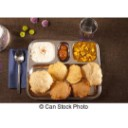poori: (31, 70, 53, 92), (49, 77, 70, 99), (83, 63, 103, 86), (71, 80, 89, 97), (49, 63, 67, 79), (67, 64, 83, 82)
